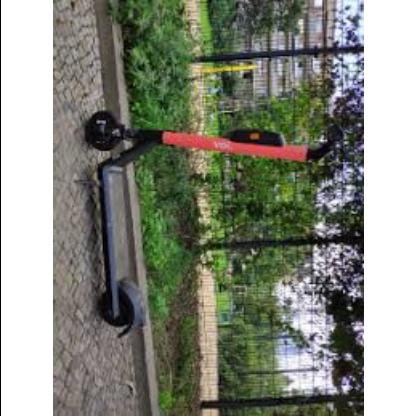bike: (83, 110, 338, 404)
